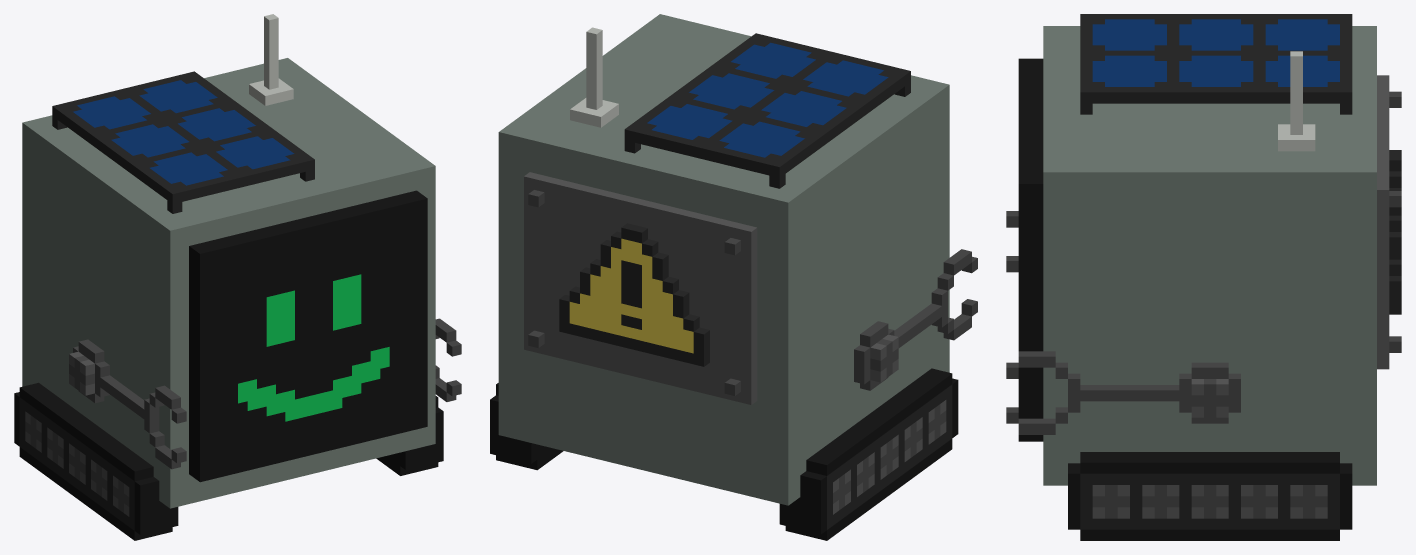
File: rover-empty.obj
3 views of the same model, side by side, from view 1: azimuth 30°, elevation 25°; view 2: azimuth 150°, elevation 25°; view 3: azimuth 270°, elevation 25° (orthographic). The views are drawn at different scales.
Parts seen in each view (by area): view 1: rover-empty; view 2: rover-empty; view 3: rover-empty.
Part boxes in pixels (left/top/right/bottom): rover-empty: left=14, top=14, right=461, bottom=540; rover-empty: left=490, top=14, right=977, bottom=540; rover-empty: left=1006, top=14, right=1401, bottom=540.
Size of the model in its own units: 32 by 40 by 32.
1 material, 1 textured.
